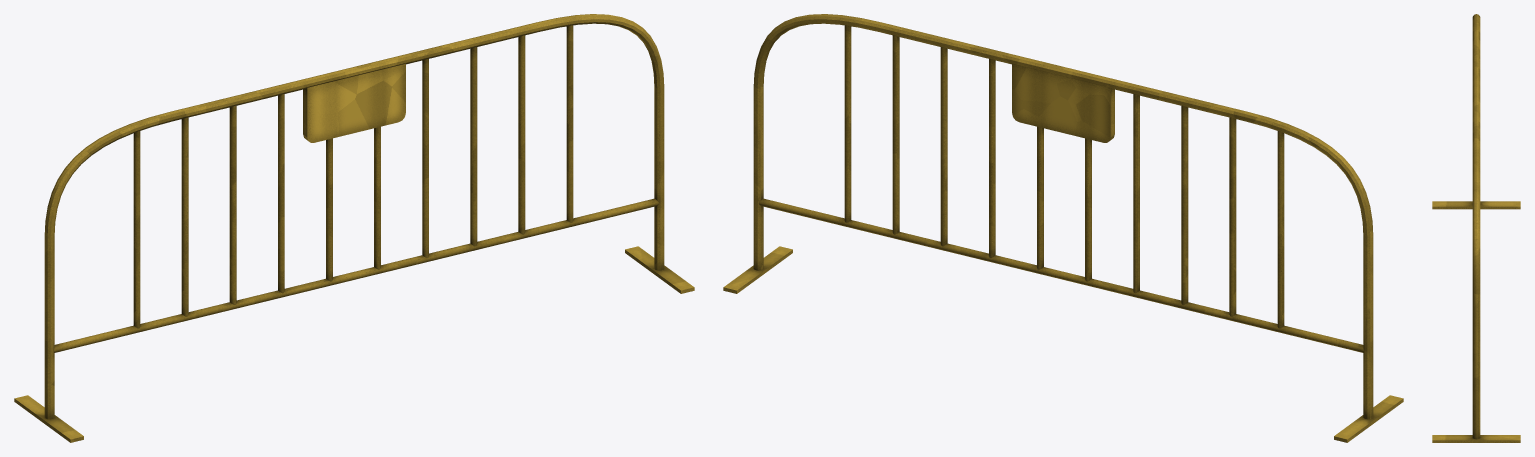
Rendered from VALLA.fbx.
3 renders of one model, left to right at view 1: azimuth 30°, elevation 25°; view 2: azimuth 150°, elevation 25°; view 3: azimuth 270°, elevation 25°, orthographic. The views are drawn at different scales.
Visible parts, largest first — view 1: VALLA_Baked; view 2: VALLA_Baked; view 3: VALLA_Baked.
Part boxes in pixels (left/top/right/bottom): VALLA_Baked: left=14, top=14, right=694, bottom=442; VALLA_Baked: left=723, top=14, right=1403, bottom=442; VALLA_Baked: left=1432, top=14, right=1520, bottom=442.
Size of the model in its own units: 452 by 193 by 70.49.
Materials: 1 (1 with a texture image).
